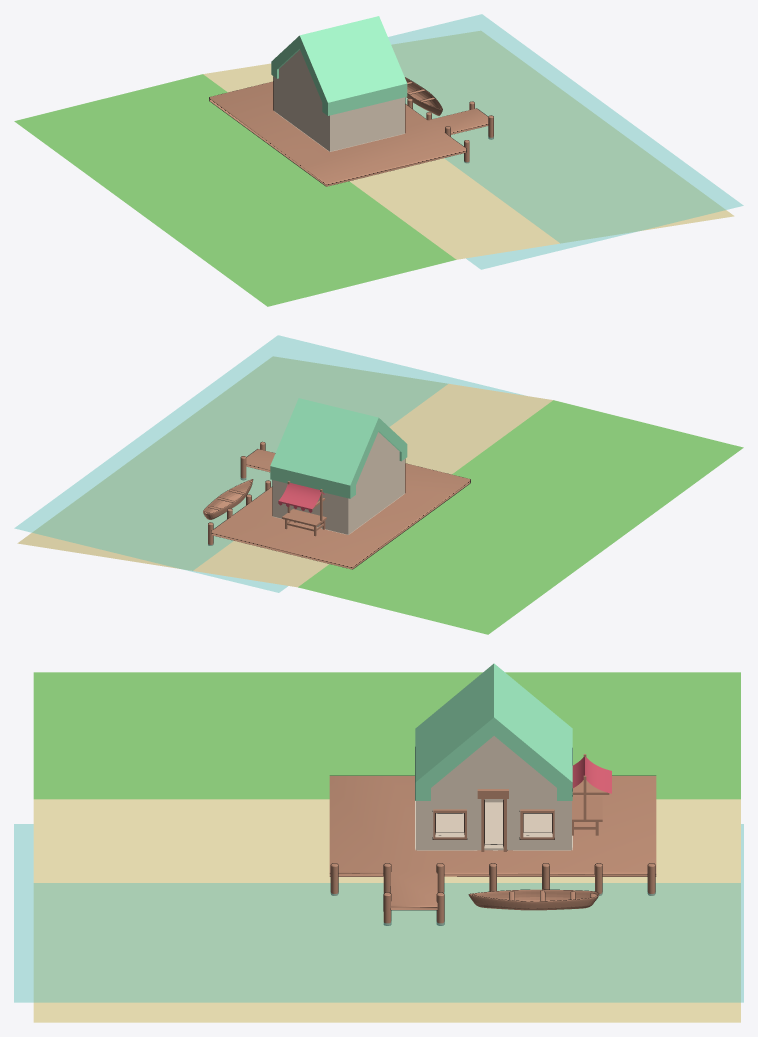
Rendered from maqueta-house-toon.glb.
3 views of the same model, one above another, from view 1: azimuth 30°, elevation 25°; view 2: azimuth 150°, elevation 25°; view 3: azimuth 270°, elevation 25° (orthographic). The views are drawn at different scales.
Parts seen in each view (by area): view 1: Plane, Plane.001, Cube, roofHighGableTop, Plane.002, Barco; view 2: Plane, Plane.001, Cube, roofHighGableTop, Plane.002, stallRed, Barco; view 3: Plane, Plane.001, Cube, roofHighGableTop, Plane.002, Barco, stallRed, Cylinder.002.
Boxes of the visible parts, x1=… form: Plane: x1=14, y1=30, x2=734, y2=306; Plane.001: x1=388, y1=14, x2=743, y2=269; Cube: x1=209, y1=81, x2=488, y2=186; roofHighGableTop: x1=271, y1=16, x2=407, y2=115; Plane.002: x1=273, y1=76, x2=405, y2=151; Barco: x1=405, y1=77, x2=442, y2=115; Plane: x1=17, y1=356, x2=743, y2=634; Plane.001: x1=14, y1=335, x2=521, y2=592; Cube: x1=211, y1=449, x2=470, y2=569; roofHighGableTop: x1=270, y1=398, x2=407, y2=498; Plane.002: x1=272, y1=459, x2=405, y2=534; stallRed: x1=278, y1=481, x2=326, y2=536; Barco: x1=203, y1=479, x2=253, y2=519; Plane: x1=33, y1=672, x2=740, y2=1022; Plane.001: x1=14, y1=824, x2=743, y2=1002; Cube: x1=329, y1=775, x2=656, y2=910; roofHighGableTop: x1=415, y1=663, x2=572, y2=800; Plane.002: x1=415, y1=747, x2=572, y2=851; Barco: x1=468, y1=889, x2=599, y2=910; stallRed: x1=572, y1=754, x2=611, y2=835; Cylinder.002: x1=330, y1=863, x2=655, y2=895.
Size of the model in its own units: 39.03 by 10.01 by 37.72.
